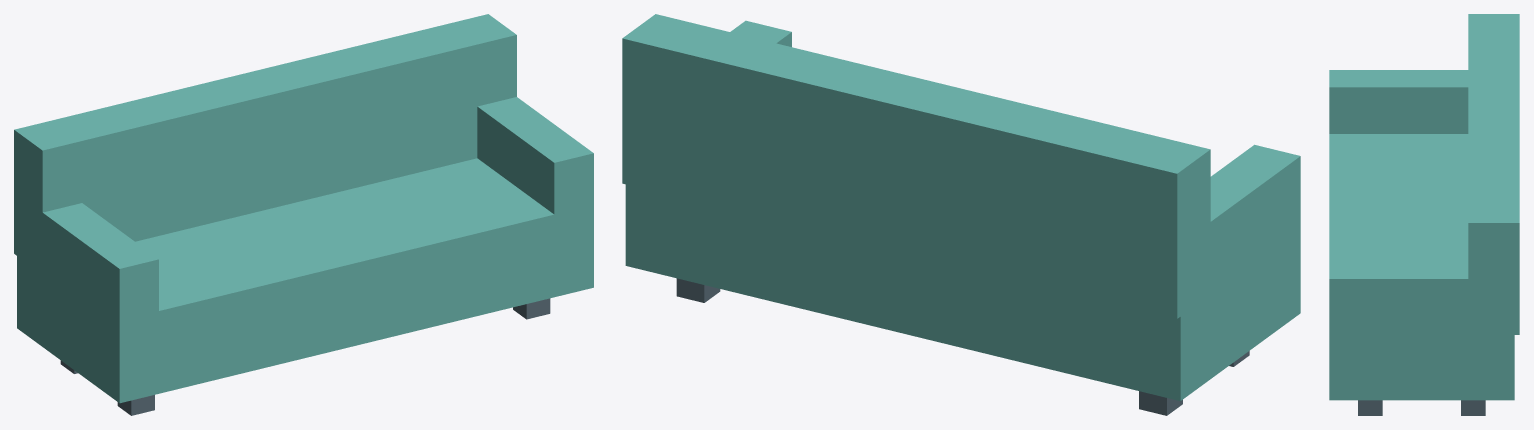
The model's file is voxel-city-districts-sofa-cbdd406d__24892.glb.
3 renders of one model, left to right at view 1: azimuth 30°, elevation 25°; view 2: azimuth 150°, elevation 25°; view 3: azimuth 270°, elevation 25°, orthographic. The views are drawn at different scales.
Visible parts, largest first — view 1: sofa-accent, sofa-dark; view 2: sofa-accent, sofa-dark; view 3: sofa-accent, sofa-dark.
Part boxes in pixels (bbox=[...]): sofa-accent: bbox=[14, 14, 593, 403]; sofa-dark: bbox=[60, 298, 550, 415]; sofa-accent: bbox=[622, 14, 1300, 400]; sofa-dark: bbox=[676, 278, 1249, 415]; sofa-accent: bbox=[1329, 14, 1519, 400]; sofa-dark: bbox=[1358, 400, 1485, 415].
Size of the model in its own units: 2.4 by 1.1 by 0.925.
